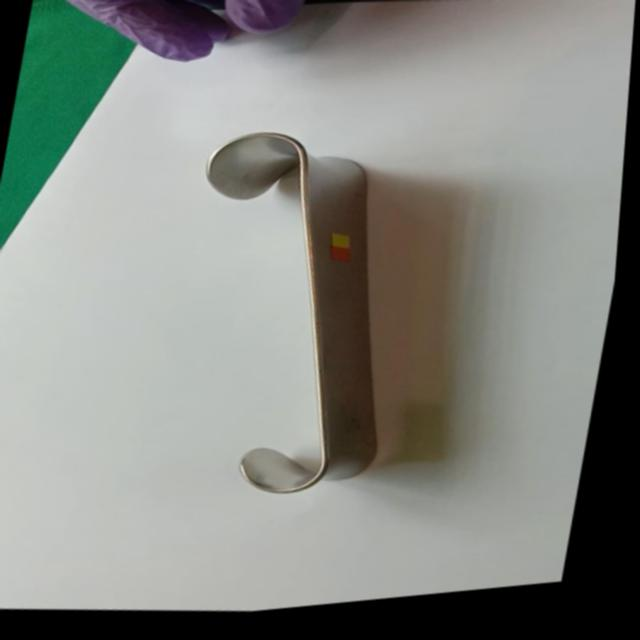CheekRetractor: (145, 114, 439, 521)
